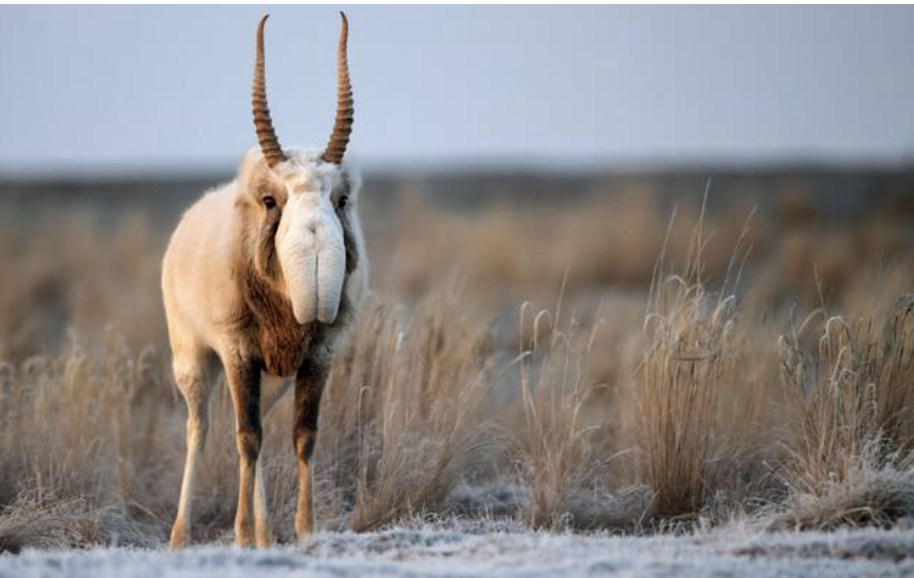saiga: (148, 8, 381, 549)
